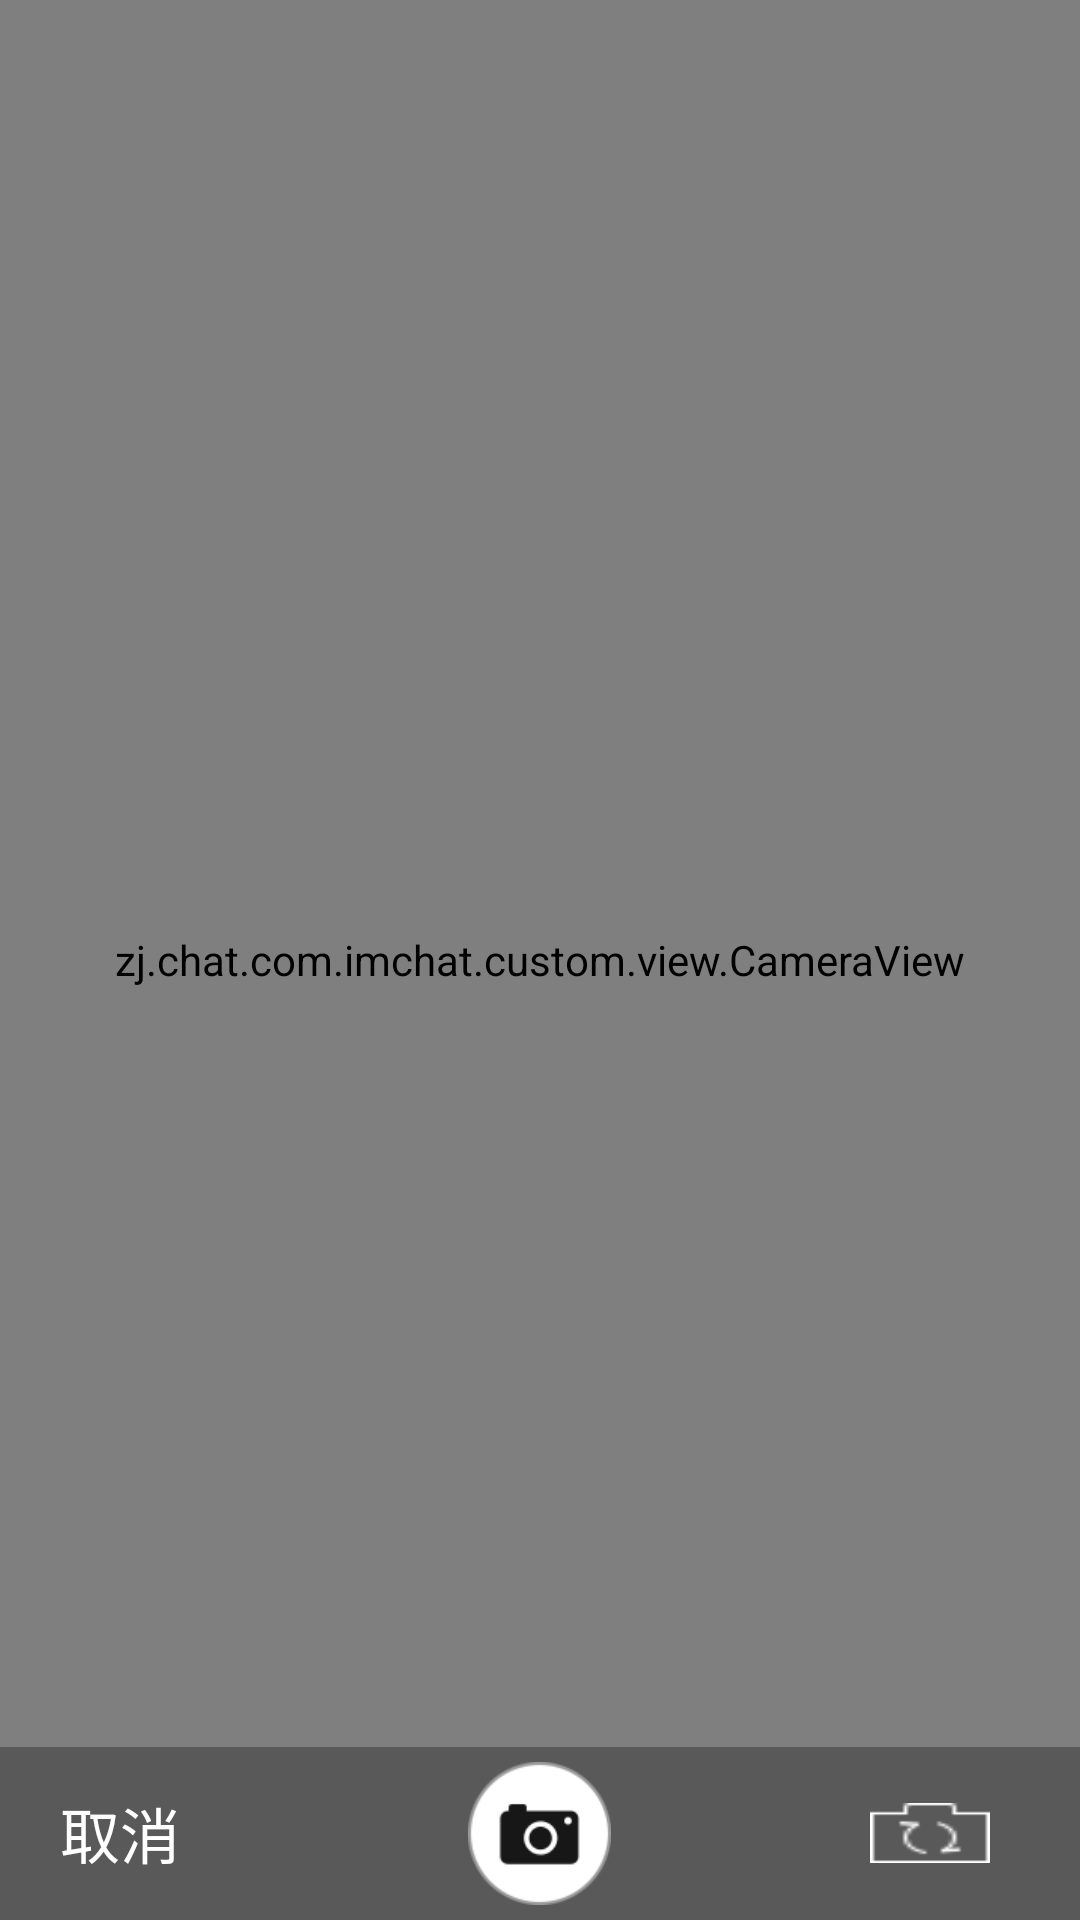

Screen size 1080x1920. Icon name, then its box in pixels as detection(x1, y1, x2, y2):
camera switch: detection(870, 1803, 990, 1863)
take photo: detection(468, 1762, 611, 1905)
